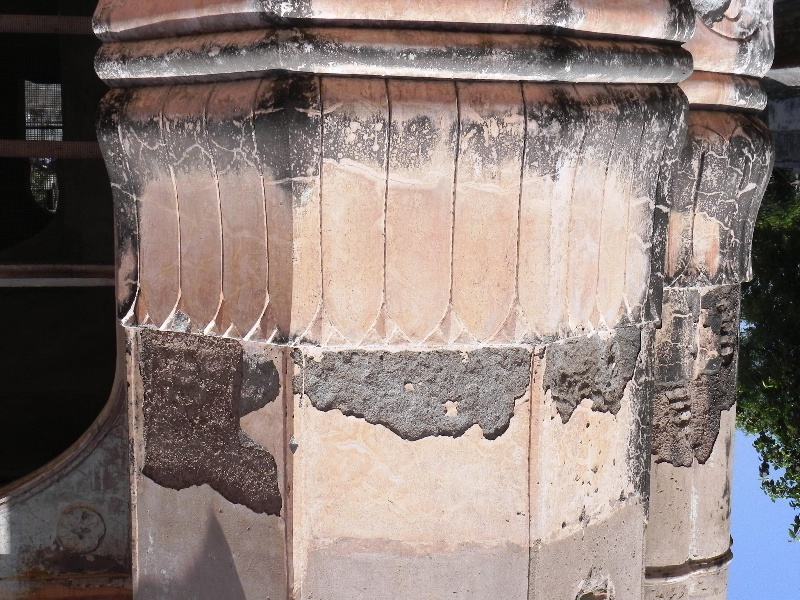Spalling: (293, 335, 638, 442), (127, 319, 282, 522), (663, 270, 735, 472)
